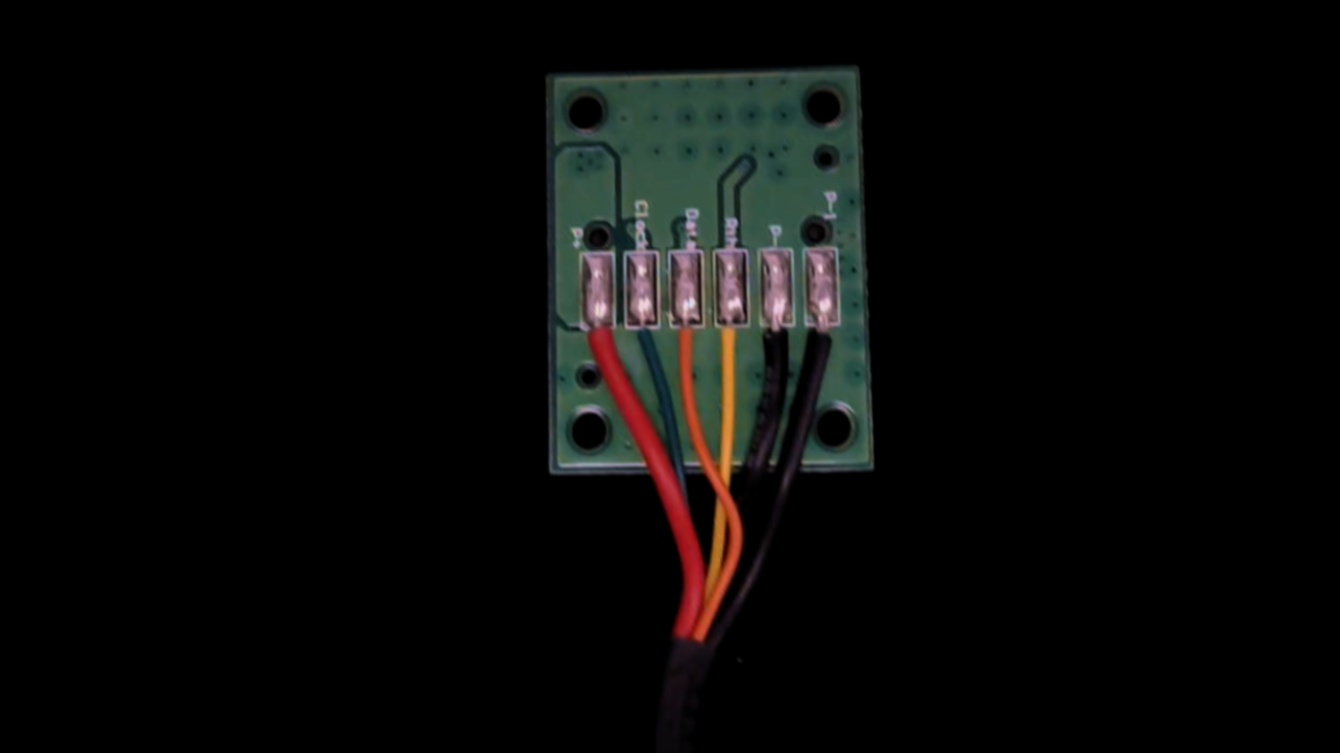Black: (758, 303, 794, 391)
Black1: (803, 307, 844, 390)
Green: (625, 310, 658, 384)
Orange: (669, 302, 707, 391)
Red: (582, 310, 619, 382)
Yellow: (712, 305, 751, 388)
